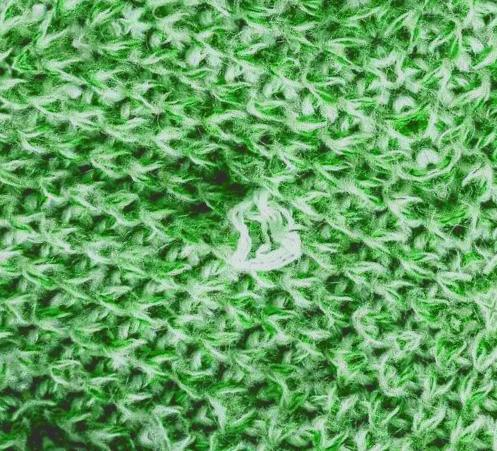snag: (213, 194, 309, 280)
